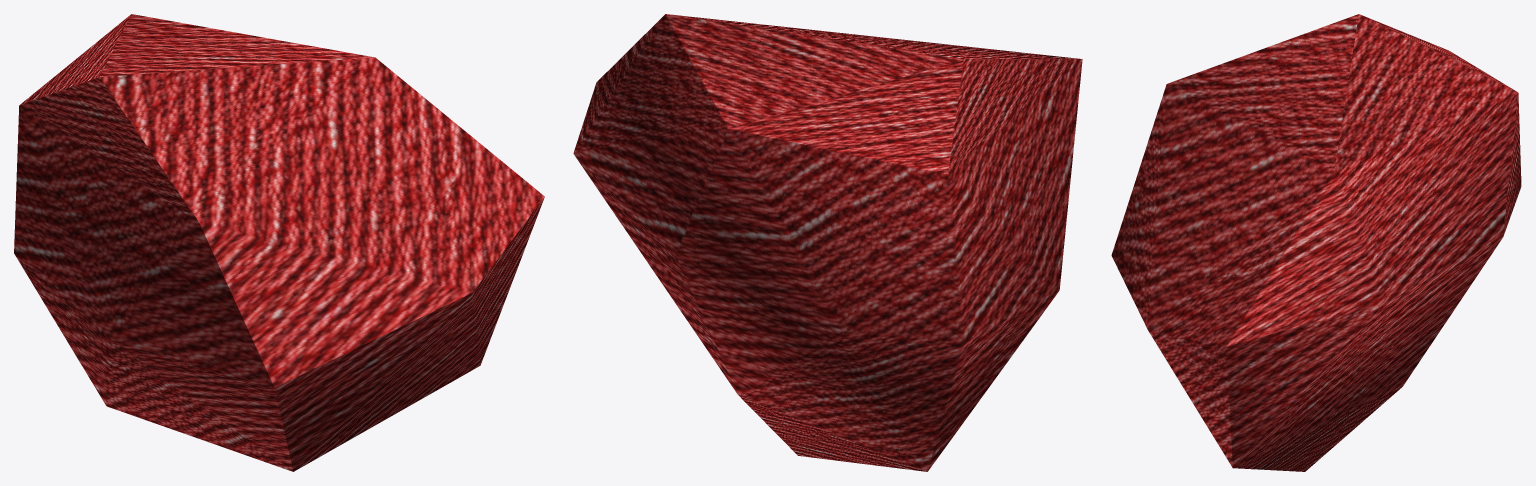
File: mm9_deco_stonered.glb
3 views of the same model, side by side, from view 1: azimuth 30°, elevation 25°; view 2: azimuth 150°, elevation 25°; view 3: azimuth 270°, elevation 25° (orthographic). The views are drawn at different scales.
Parts seen in each view (by area): view 1: Stonered; view 2: Stonered; view 3: Stonered.
Part boxes in pixels (x1,y1,x2,y2): Stonered: (14,14,544,471); Stonered: (573,14,1082,471); Stonered: (1111,14,1521,471).
Size of the model in its own units: 0.2098 by 0.1882 by 0.1843.
1 material, 1 textured.
